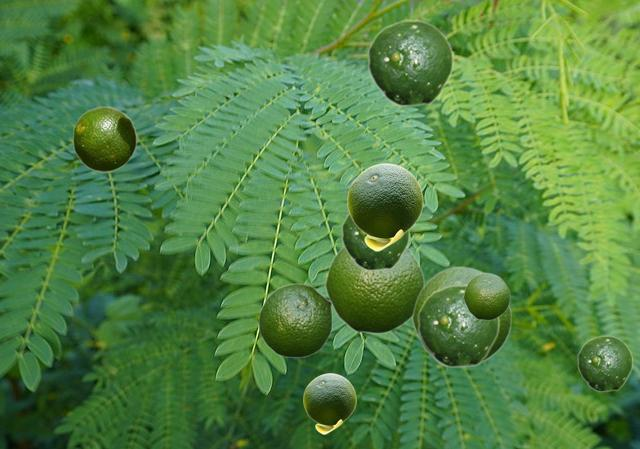calamansi: (411, 265, 511, 366), (324, 246, 424, 333), (367, 19, 453, 106), (417, 284, 499, 367), (347, 163, 422, 250), (258, 283, 332, 357), (72, 106, 136, 171), (341, 213, 409, 270), (303, 373, 355, 433), (577, 335, 632, 391), (463, 272, 509, 319)
